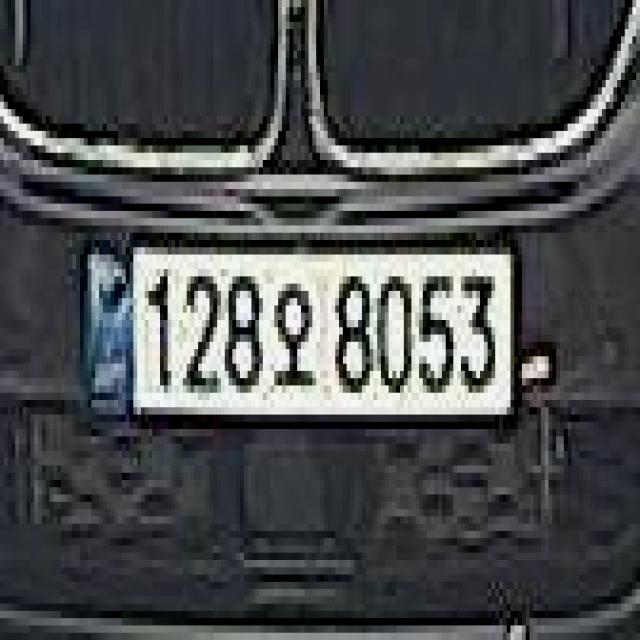illegal_plate: (79, 228, 525, 442)
